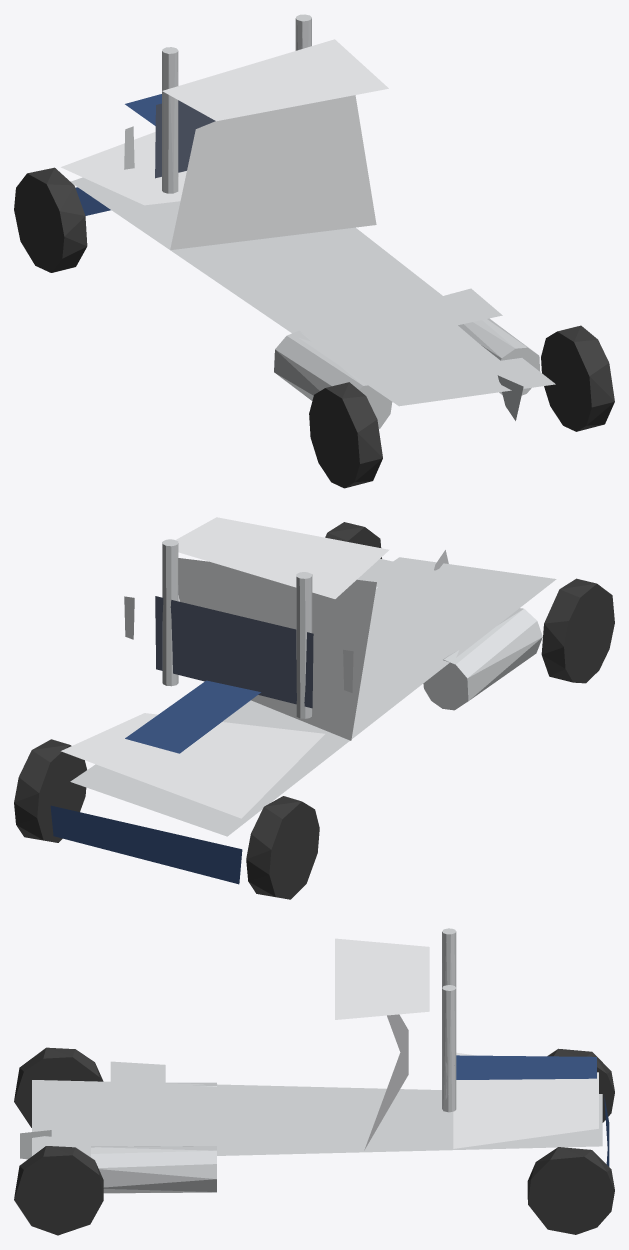
Rendered from tractor_lod1.glb.
3 views of the same model, one above another, from view 1: azimuth 30°, elevation 25°; view 2: azimuth 150°, elevation 25°; view 3: azimuth 270°, elevation 25° (orthographic). The views are drawn at different scales.
Visible parts, largest first — view 1: Chassis, Cab, Sleeper, WheelDriveL, WheelSteerL, WheelDriveR, FifthWheel, Hood, FuelTankL, StackL, FuelTankR, Windshield; view 2: Chassis, Cab, Hood, Windshield, Sleeper, Bumper, WheelDriveL, WheelSteerL, FuelTankL, WheelSteerR, HoodStripe, FifthWheel (+3 smaller); view 3: Chassis, Hood, Sleeper, WheelDriveR, WheelSteerR, FuelTankR, FifthWheel, HoodStripe, WheelDriveL, StackR, Cab, WheelSteerL (+2 smaller).
Part boxes in pixels (box(x1,y1,x2,y2)): Chassis: box(71, 177, 555, 406); Cab: box(170, 95, 376, 250); Sleeper: box(162, 39, 388, 121); WheelDriveL: box(309, 382, 382, 488); WheelSteerL: box(14, 167, 87, 272); WheelDriveR: box(541, 325, 614, 431); FifthWheel: box(330, 288, 502, 345); Hood: box(61, 132, 186, 205); FuelTankL: box(274, 331, 392, 428); StackL: box(162, 47, 178, 193); FuelTankR: box(458, 318, 540, 395); Windshield: box(155, 100, 215, 178); Chassis: box(70, 557, 556, 836); Cab: box(178, 558, 376, 740); Hood: box(61, 713, 324, 818); Windshield: box(155, 596, 313, 708); Sleeper: box(175, 517, 389, 598); Bumper: box(50, 805, 242, 884); WheelDriveL: box(541, 578, 614, 683); WheelSteerL: box(246, 796, 319, 899); FuelTankL: box(423, 608, 542, 710); WheelSteerR: box(14, 739, 86, 842); HoodStripe: box(125, 680, 260, 753); FifthWheel: box(357, 558, 502, 612); Chassis: box(32, 1080, 602, 1157); Hood: box(453, 1052, 598, 1148); Sleeper: box(335, 938, 429, 1019); WheelDriveR: box(14, 1146, 103, 1235); WheelSteerR: box(527, 1147, 614, 1234); FuelTankR: box(91, 1146, 216, 1193); FifthWheel: box(110, 1061, 165, 1124); HoodStripe: box(456, 1055, 596, 1079); WheelDriveL: box(14, 1047, 103, 1127); StackR: box(442, 985, 456, 1112); Cab: box(364, 1014, 408, 1150); WheelSteerL: box(547, 1048, 614, 1122).
Bounding box in the file's own units: 3.25 × 3.11 × 7.63.
